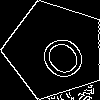O: (30, 25, 91, 85)
